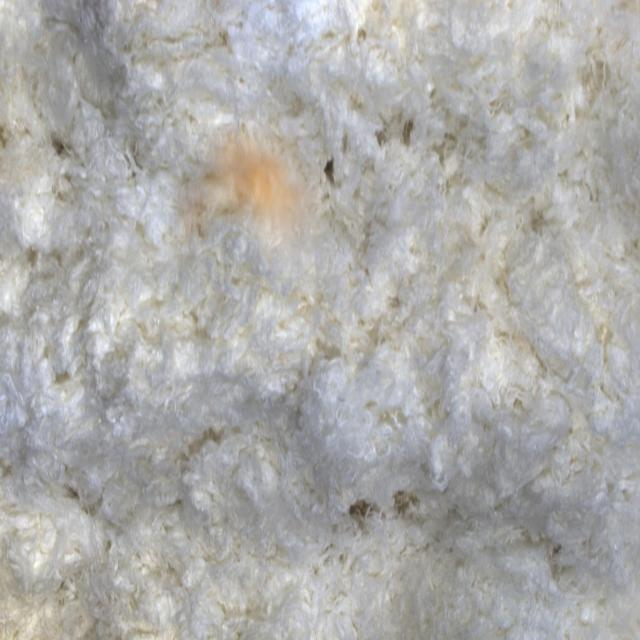dust: (175, 124, 327, 271)
